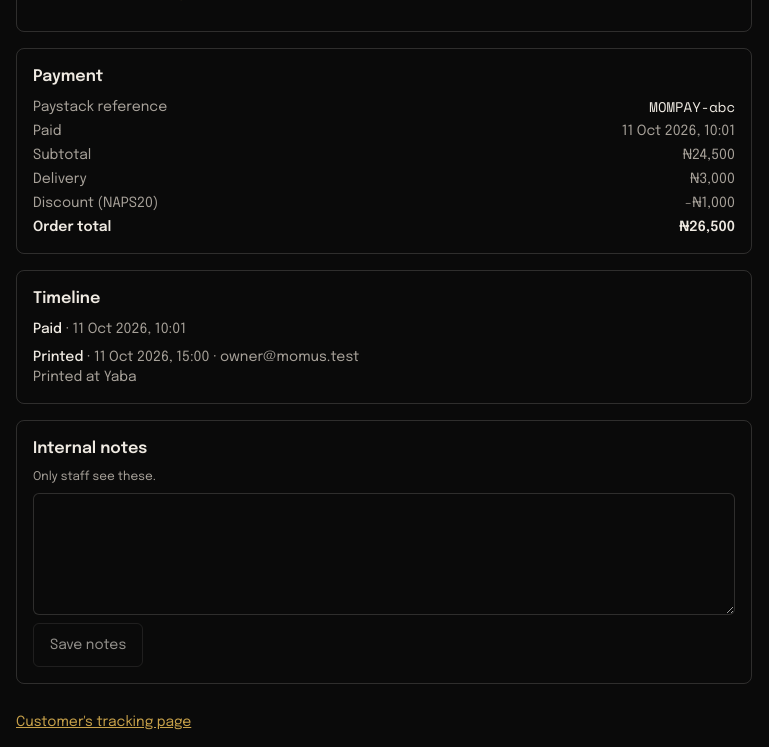
AdminOrderDetailView › saves internal notes
(page scrolled)
Expected: the button "Save notes" is disabled, [33,623,143,667]
Step 1. Type "Call before delivery" into the text box labelled "Only staff see these." → (384, 554), box [33,493,735,615]
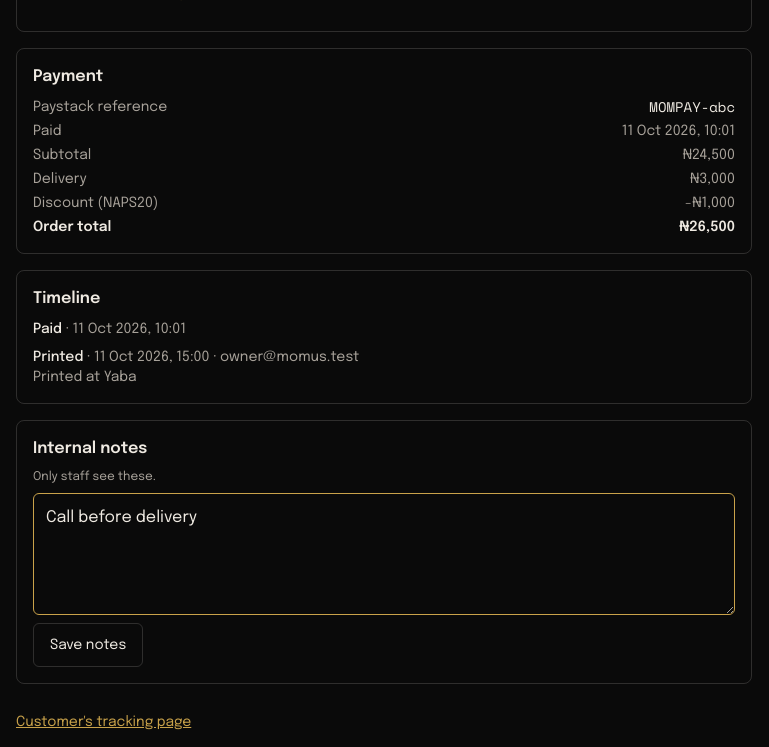
Step 2. Click the button "Save notes" → (88, 645), box [33,623,143,667]
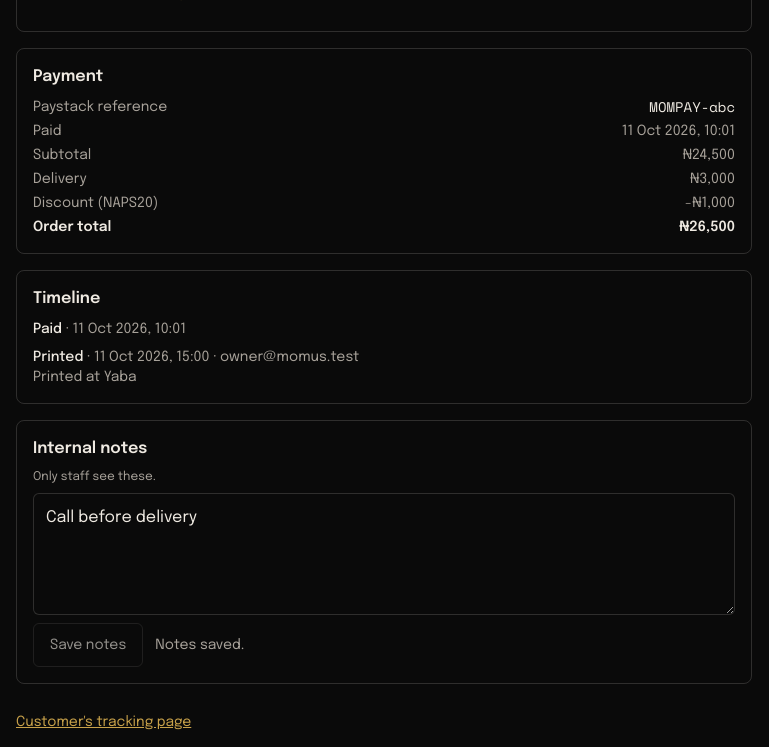
Expected: the text "Notes saved." is shown, [155,635,244,655]
